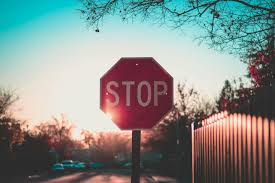stop sign: (98, 56, 174, 131)
